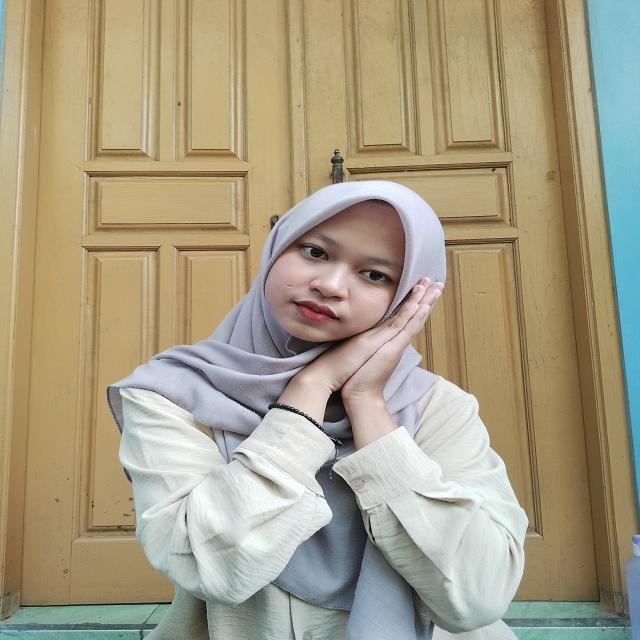tidur: (255, 274, 458, 450)
